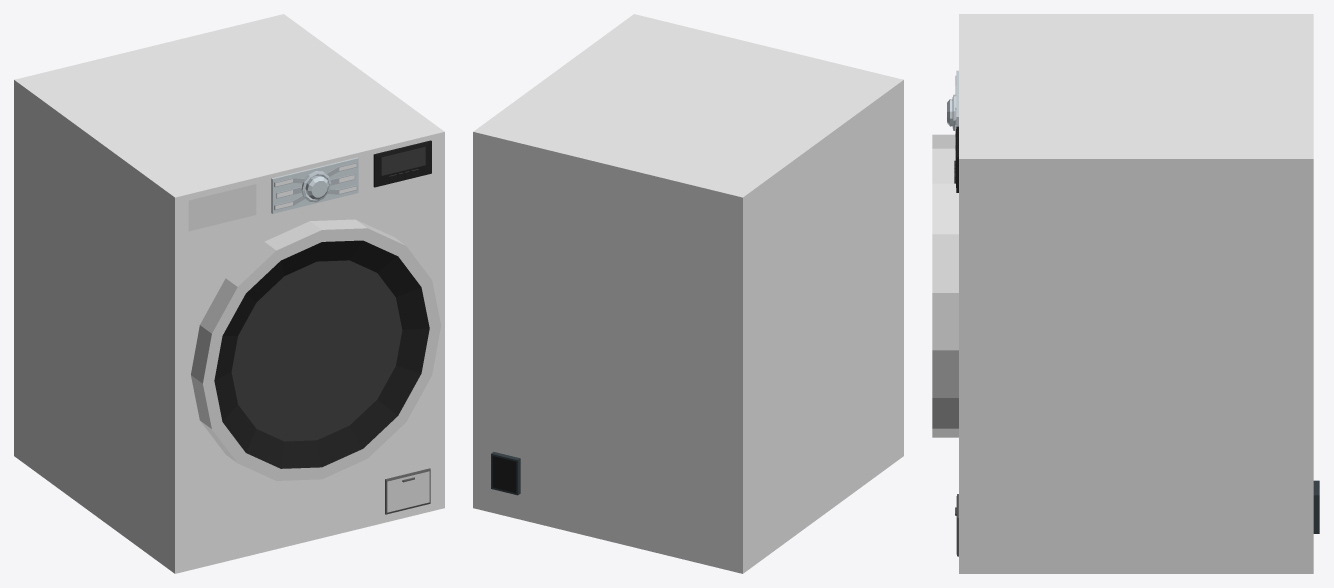
File: KA-F600_Dryer_V1.glb
The picture shows the model from 3 angles, left to right: view 1: azimuth 30°, elevation 25°; view 2: azimuth 150°, elevation 25°; view 3: azimuth 270°, elevation 25°; orthographic projection. The views are drawn at different scales.
Parts seen in each view (by area): view 1: KA-F600_Dryer_V1, KA-F600_Dryer_V1_Door, KA-F600_Dryer_V1_Knob; view 2: KA-F600_Dryer_V1; view 3: KA-F600_Dryer_V1, KA-F600_Dryer_V1_Door.
Part boxes in pixels (x1,y1,x2,y2): KA-F600_Dryer_V1: (14,14,444,573); KA-F600_Dryer_V1_Door: (191,219,441,480); KA-F600_Dryer_V1_Knob: (301,171,331,202); KA-F600_Dryer_V1: (473,14,903,573); KA-F600_Dryer_V1: (954,14,1319,573); KA-F600_Dryer_V1_Door: (932,134,958,437).
Bounding box in the file's own units: 0.6 × 0.8 × 0.6772.
Materials: 2 (2 with a texture image).
